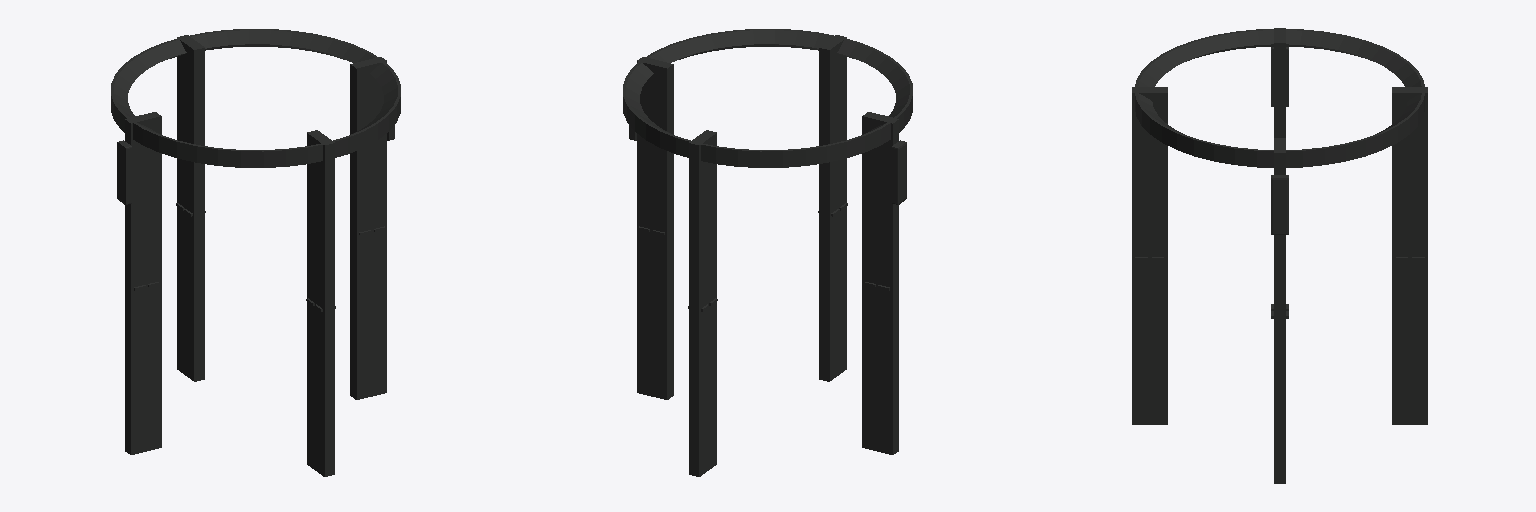
3 renders of one model, left to right at view 1: azimuth 30°, elevation 25°; view 2: azimuth 150°, elevation 25°; view 3: azimuth 270°, elevation 25°, orthographic.
Parts seen in each view (by area): view 1: vactube_128_straight_grid; view 2: vactube_128_straight_grid; view 3: vactube_128_straight_grid.
Boxes of the visible parts, <box> form: vactube_128_straight_grid: <box>111,29,400,476</box>; vactube_128_straight_grid: <box>623,29,912,476</box>; vactube_128_straight_grid: <box>1132,28,1427,483</box>.
Bounding box in the file's own units: 0.8508 × 1 × 0.8088.
2 materials, 2 textured.